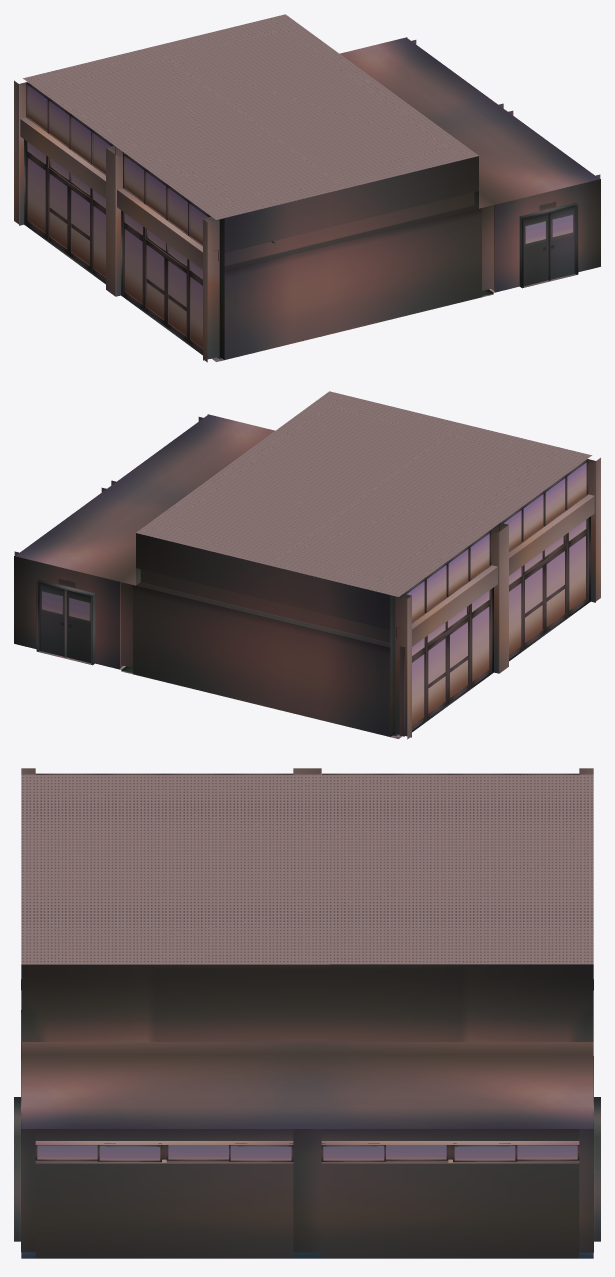
File: JpsEntrance_evening.FBX
3 views of the same model, one above another, from view 1: azimuth 30°, elevation 25°; view 2: azimuth 150°, elevation 25°; view 3: azimuth 270°, elevation 25° (orthographic). The views are drawn at different scales.
Visible parts, largest first — view 1: Ent_ceiling_eve000, Ent_wallB_eve000, Ent_wallL_eve, Ent_Wceiling_eve000, Ent_Wwall_exitB_eve000, Ent_WdoorL_exitB_eve000, Ent_WdoorR_exitB_eve000, Ent_wallL_doorRL_eve, Ent_wallL_doorRR_eve, Ent_wallL_doorLL_eve, Ent_wallL_doorLR_eve, Ent_WwallL_eve000; view 2: Ent_ceiling_eve000, Ent_wallF_eve000, Ent_wallL_eve, Ent_Wceiling_eve000, Ent_Wwall_exitA_eve000, Ent_WdoorL_exitA_eve000, Ent_WdoorR_exitA_eve000, Ent_wallL_doorRL_eve, Ent_wallL_doorLL_eve, Ent_wallL_doorRR_eve, Ent_wallL_doorLR_eve, Ent_WwallL_eve000; view 3: Ent_ceiling_eve000, Ent_WwallR_eve000, Ent_Wceiling_eve000, Ent_wallR_eve000, Ent_wallL_eve, Ent_Wwall_exitB_eve000, Ent_Wwall_exitA_eve000.
Part boxes in pixels (x1,y1,x2,y2): Ent_ceiling_eve000: (23,14,478,220); Ent_wallB_eve000: (224,156,481,359); Ent_wallL_eve: (14,80,224,362); Ent_Wceiling_eve000: (340,37,599,208); Ent_Wwall_exitB_eve000: (494,179,600,292); Ent_WdoorL_exitB_eve000: (522,213,550,287); Ent_WdoorR_exitB_eve000: (550,206,577,279); Ent_wallL_doorRL_eve: (69,186,90,270); Ent_wallL_doorRR_eve: (48,171,69,255); Ent_wallL_doorLL_eve: (166,257,187,341); Ent_wallL_doorLR_eve: (145,242,165,325); Ent_WwallL_eve000: (482,205,494,290); Ent_ceiling_eve000: (136,391,591,597); Ent_wallF_eve000: (133,533,390,736); Ent_wallL_eve: (390,457,600,739); Ent_Wceiling_eve000: (15,414,274,585); Ent_Wwall_exitA_eve000: (14,556,120,669); Ent_WdoorL_exitA_eve000: (64,590,92,664); Ent_WdoorR_exitA_eve000: (37,583,64,656); Ent_wallL_doorRL_eve: (448,619,469,703); Ent_wallL_doorLL_eve: (545,548,566,632); Ent_wallL_doorRR_eve: (427,635,447,718); Ent_wallL_doorLR_eve: (524,564,544,647); Ent_WwallL_eve000: (120,582,132,667); Ent_ceiling_eve000: (21,774,593,964); Ent_WwallR_eve000: (21,1123,593,1258); Ent_Wceiling_eve000: (21,1042,593,1129); Ent_wallR_eve000: (21,964,593,1041); Ent_wallL_eve: (21,768,593,774); Ent_Wwall_exitB_eve000: (14,1097,21,1241); Ent_Wwall_exitA_eve000: (593,1097,600,1241).
Bounding box in the file's own units: 1421 × 498 × 1230.
